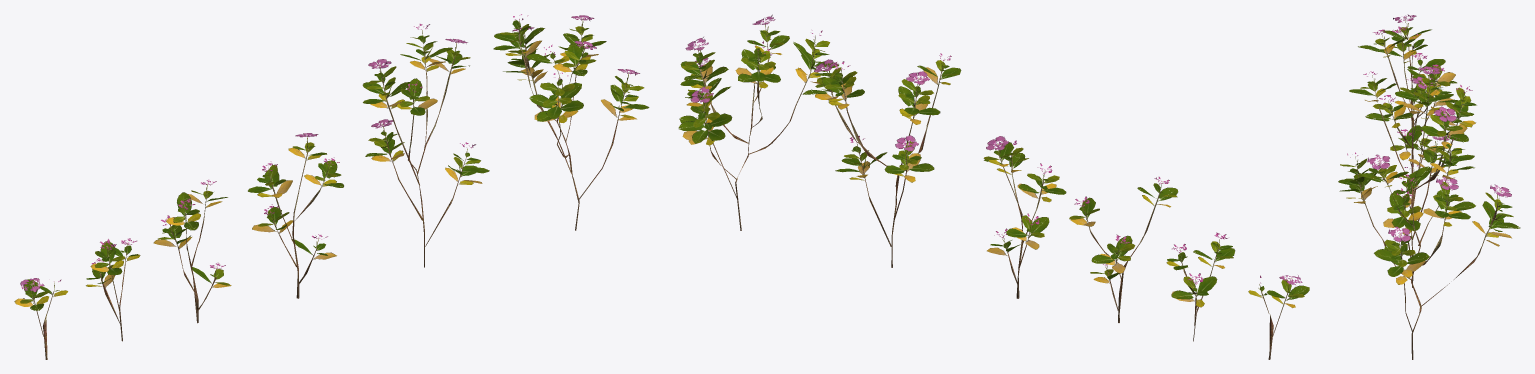
Rendered from periwinkle_plant.glb.
3 renders of one model, left to right at view 1: azimuth 30°, elevation 25°; view 2: azimuth 150°, elevation 25°; view 3: azimuth 270°, elevation 25°, orthographic. The views are drawn at different scales.
Visible parts, largest first — view 1: periwinkle_plant_01_LOD0, periwinkle_plant_02_LOD0, periwinkle_plant_03_LOD0, periwinkle_plant_04_LOD0, periwinkle_plant_05_LOD0, periwinkle_plant_06_LOD0; view 2: periwinkle_plant_01_LOD0, periwinkle_plant_02_LOD0, periwinkle_plant_03_LOD0, periwinkle_plant_04_LOD0, periwinkle_plant_05_LOD0, periwinkle_plant_06_LOD0; view 3: periwinkle_plant_01_LOD0, periwinkle_plant_02_LOD0, periwinkle_plant_03_LOD0, periwinkle_plant_04_LOD0, periwinkle_plant_05_LOD0, periwinkle_plant_06_LOD0.
Part boxes in pixels (<box>): periwinkle_plant_01_LOD0: <box>493,14,649,230</box>; periwinkle_plant_02_LOD0: <box>362,24,489,267</box>; periwinkle_plant_03_LOD0: <box>248,133,343,298</box>; periwinkle_plant_04_LOD0: <box>153,179,231,323</box>; periwinkle_plant_05_LOD0: <box>86,238,140,341</box>; periwinkle_plant_06_LOD0: <box>14,278,67,359</box>; periwinkle_plant_01_LOD0: <box>678,14,838,230</box>; periwinkle_plant_02_LOD0: <box>802,53,961,267</box>; periwinkle_plant_03_LOD0: <box>983,136,1066,298</box>; periwinkle_plant_04_LOD0: <box>1069,177,1178,322</box>; periwinkle_plant_05_LOD0: <box>1166,232,1235,341</box>; periwinkle_plant_06_LOD0: <box>1248,275,1309,359</box>; periwinkle_plant_01_LOD0: <box>1338,136,1520,359</box>; periwinkle_plant_02_LOD0: <box>1349,66,1476,287</box>; periwinkle_plant_03_LOD0: <box>1365,76,1437,208</box>; periwinkle_plant_04_LOD0: <box>1358,29,1458,172</box>; periwinkle_plant_05_LOD0: <box>1380,26,1456,127</box>; periwinkle_plant_06_LOD0: <box>1382,14,1431,104</box>.
Size of the model in its own units: 1.24 by 0.4128 by 0.3209.
1 material, 1 textured.
